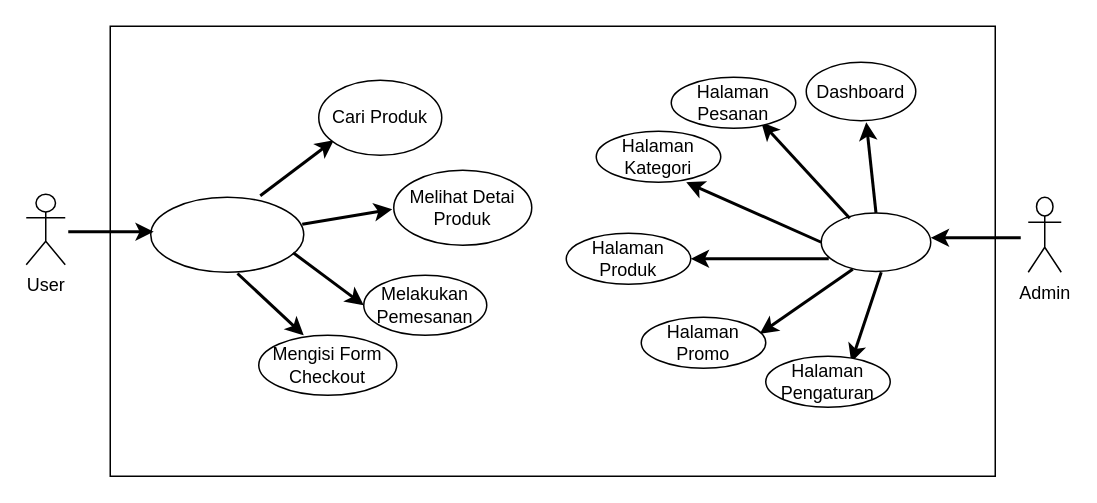
This 1097x503 diagram has some shape labels left out. The shapes that lost their labels are listed below. From the top down, each one's centre as x and y in pixels, then its label:
At (226,234): "Mengakses website Budidaya Ikan".
At (875,242): "Login".
